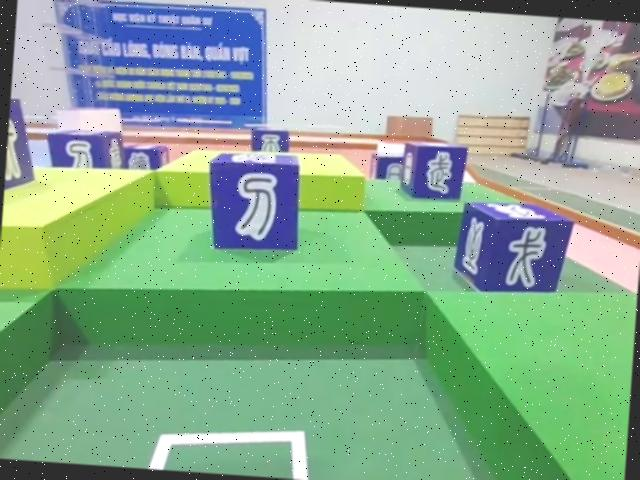R2 Fake Blue: (451, 200, 574, 300), (203, 147, 307, 256), (398, 140, 467, 204), (44, 127, 127, 174), (2, 99, 35, 205), (118, 142, 168, 173), (249, 124, 292, 154)
